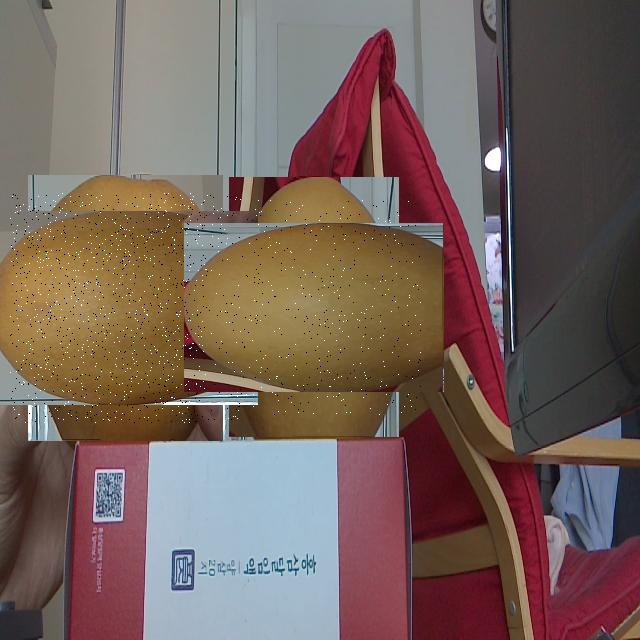pear: (10, 193, 241, 423), (207, 200, 421, 415)
